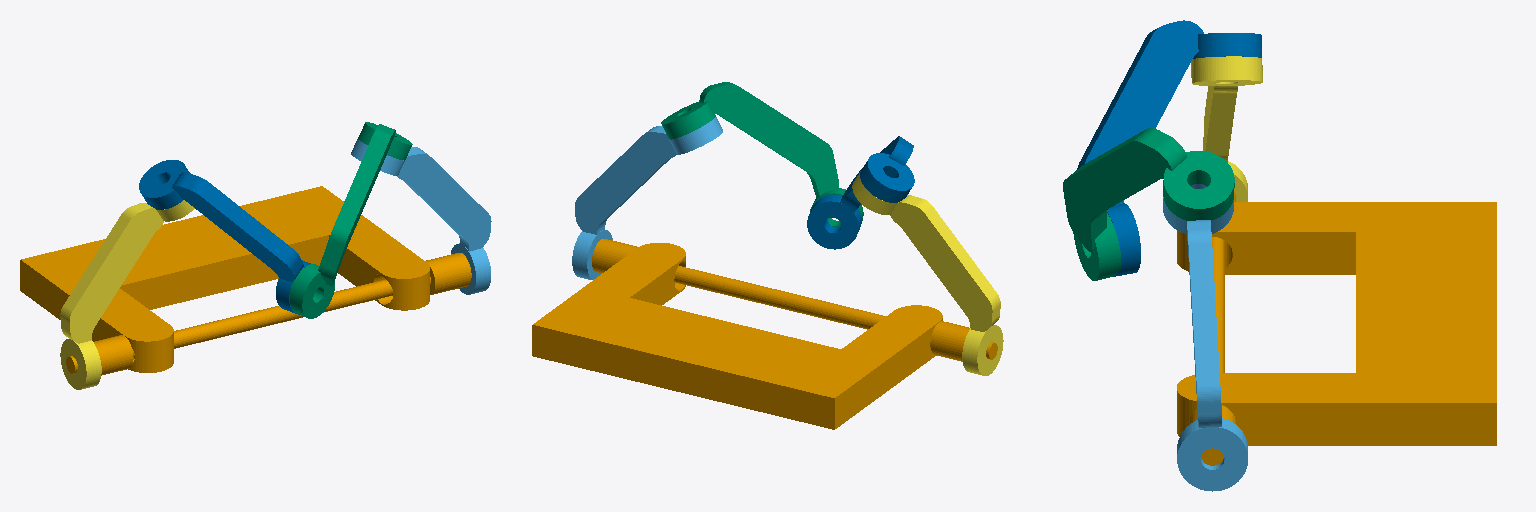
robot.urdf — Final:
<?xml version="1.0" ?>
<robot name="Final">

<mujoco>
  <compiler balanceinertia="true" discardvisual="false" meshdir="meshes" fusestatic="false"/>
</mujoco>


<link name="base_link">
  <inertial>
    <origin xyz="0.04975643133745598 0.03938833266871715 0.004996964789907014" rpy="0 0 0"/>
    <mass value="0.33668977813971906"/>
    <inertia ixx="0.00011948567792967313" iyy="0.00039235872463984855" izz="0.0005064214338297551" ixy="-2.8351395247413385e-06" iyz="-3.528545939946771e-08" ixz="2.031936255017519e-08"/>
  </inertial>
  <visual>
    <origin xyz="0 0 0" rpy="0 0 0"/>
    <geometry>
      <mesh filename="meshes/base_link.stl" scale="0.001 0.001 0.001"/>
    </geometry>
  </visual>
  <collision>
    <origin xyz="0 0 0" rpy="0 0 0"/>
    <geometry>
      <mesh filename="meshes/base_link.stl" scale="0.001 0.001 0.001"/>
    </geometry>
  </collision>
</link>

<link name="component1">
  <inertial>
    <origin xyz="-0.013093844629106358 -0.0016244826316736101 0.024131673784748987" rpy="0 0 0"/>
    <mass value="0.029352244429056873"/>
    <inertia ixx="8.060725766007138e-06" iyy="1.2586749480563634e-05" izz="5.055086592371794e-06" ixy="-3.8541462469546514e-07" iyz="5.265673264765327e-07" ixz="5.502554930385934e-06"/>
  </inertial>
  <visual>
    <origin xyz="-0.115003 -0.005119 -0.004906" rpy="0 0 0"/>
    <geometry>
      <mesh filename="meshes/component1.stl" scale="0.001 0.001 0.001"/>
    </geometry>
  </visual>
  <collision>
    <origin xyz="-0.115003 -0.005119 -0.004906" rpy="0 0 0"/>
    <geometry>
      <mesh filename="meshes/component1.stl" scale="0.001 0.001 0.001"/>
    </geometry>
  </collision>
</link>

<link name="middle1">
  <inertial>
    <origin xyz="-0.16499814818068037 0.029464214742694506 -0.06721149321533182" rpy="0 0 0"/>
    <mass value="0.03070244460218902"/>
    <inertia ixx="7.437543996775784e-06" iyy="1.0774875954084131e-05" izz="8.26129033562614e-06" ixy="-3.401502965896647e-06" iyz="-2.428186797571773e-06" ixz="-4.732602470993363e-06"/>
  </inertial>
  <visual>
    <origin xyz="-0.230829 0.041657 -0.110017" rpy="0 0 0"/>
    <geometry>
      <mesh filename="meshes/middle1.stl" scale="0.001 0.001 0.001"/>
    </geometry>
  </visual>
  <collision>
    <origin xyz="-0.230829 0.041657 -0.110017" rpy="0 0 0"/>
    <geometry>
      <mesh filename="meshes/middle1.stl" scale="0.001 0.001 0.001"/>
    </geometry>
  </collision>
</link>

<link name="left_arc1">
  <inertial>
    <origin xyz="-0.05031393390078353 0.0016250577752591833 0.024131673784879105" rpy="0 0 0"/>
    <mass value="0.029352244429056797"/>
    <inertia ixx="8.060725765820578e-06" iyy="1.258674947675755e-05" izz="5.055086599545662e-06" ixy="-3.854146246562289e-07" iyz="-5.265673253407259e-07" ixz="-5.502554929090241e-06"/>
  </inertial>
  <visual>
    <origin xyz="-0.048503 -0.005119 -0.004906" rpy="0 0 0"/>
    <geometry>
      <mesh filename="meshes/left_arc1.stl" scale="0.001 0.001 0.001"/>
    </geometry>
  </visual>
  <collision>
    <origin xyz="-0.048503 -0.005119 -0.004906" rpy="0 0 0"/>
    <geometry>
      <mesh filename="meshes/left_arc1.stl" scale="0.001 0.001 0.001"/>
    </geometry>
  </collision>
</link>

<link name="mid_arc1">
  <inertial>
    <origin xyz="0.07743420860636807 -0.01062643675723649 -0.00806520996316612" rpy="0 0 0"/>
    <mass value="0.029352244429067843"/>
    <inertia ixx="7.181404179770325e-06" iyy="8.604695140939901e-06" izz="6.935294941938403e-06" ixy="2.779880540309575e-06" iyz="-2.497663214864019e-06" ixz="3.991009787669301e-06"/>
  </inertial>
  <visual>
    <origin xyz="0.047558 -0.002858 -0.049666" rpy="0 0 0"/>
    <geometry>
      <mesh filename="meshes/mid_arc1.stl" scale="0.001 0.001 0.001"/>
    </geometry>
  </visual>
  <collision>
    <origin xyz="0.047558 -0.002858 -0.049666" rpy="0 0 0"/>
    <geometry>
      <mesh filename="meshes/mid_arc1.stl" scale="0.001 0.001 0.001"/>
    </geometry>
  </collision>
</link>

<joint name="Revolute_14" type="continuous">
  <origin xyz="0.115003 0.005119 0.004906" rpy="0 0 0"/>
  <parent link="base_link"/>
  <child link="component1"/>
  <axis xyz="1.0 0.0 -0.0"/>
</joint>
<transmission name="Revolute_14_tran">
  <type>transmission_interface/SimpleTransmission</type>
  <joint name="Revolute_14">
    <hardwareInterface>PositionJointInterface</hardwareInterface>
  </joint>
  <actuator name="Revolute_14_actr">
    <hardwareInterface>PositionJointInterface</hardwareInterface>
    <mechanicalReduction>1</mechanicalReduction>
  </actuator>
</transmission>

<joint name="Revolute_16" type="continuous">
  <origin xyz="0.115826 -0.046776 0.105111" rpy="0 0 0"/>
  <parent link="component1"/>
  <child link="middle1"/>
  <axis xyz="-0.497979 -0.018186 -0.866998"/>
</joint>
<transmission name="Revolute_16_tran">
  <type>transmission_interface/SimpleTransmission</type>
  <joint name="Revolute_16">
    <hardwareInterface>PositionJointInterface</hardwareInterface>
  </joint>
  <actuator name="Revolute_16_actr">
    <hardwareInterface>PositionJointInterface</hardwareInterface>
    <mechanicalReduction>1</mechanicalReduction>
  </actuator>
</transmission>

<joint name="Revolute_17" type="continuous">
  <origin xyz="0.048503 0.005119 0.004906" rpy="0 0 0"/>
  <parent link="base_link"/>
  <child link="left_arc1"/>
  <axis xyz="1.0 0.0 -0.0"/>
</joint>
<transmission name="Revolute_17_tran">
  <type>transmission_interface/SimpleTransmission</type>
  <joint name="Revolute_17">
    <hardwareInterface>PositionJointInterface</hardwareInterface>
  </joint>
  <actuator name="Revolute_17_actr">
    <hardwareInterface>PositionJointInterface</hardwareInterface>
    <mechanicalReduction>1</mechanicalReduction>
  </actuator>
</transmission>

<joint name="Revolute_19" type="continuous">
  <origin xyz="-0.096061 -0.002261 0.04476" rpy="0 0 0"/>
  <parent link="left_arc1"/>
  <child link="mid_arc1"/>
  <axis xyz="0.497979 0.018186 -0.866998"/>
</joint>
<transmission name="Revolute_19_tran">
  <type>transmission_interface/SimpleTransmission</type>
  <joint name="Revolute_19">
    <hardwareInterface>PositionJointInterface</hardwareInterface>
  </joint>
  <actuator name="Revolute_19_actr">
    <hardwareInterface>PositionJointInterface</hardwareInterface>
    <mechanicalReduction>1</mechanicalReduction>
  </actuator>
</transmission>

</robot>

--- What the picture shows (computed from the rendered views, not written in the file) ---
The picture shows the robot from 3 angles, left to right: view 1: azimuth 30°, elevation 25°; view 2: azimuth 150°, elevation 25°; view 3: azimuth 270°, elevation 25°; orthographic projection.
Robot: Final — 5 links, 4 joints (4 continuous); root link base_link; default pose: all joints at 0.
Visible links, largest first — view 1: base_link, left_arc1, mid_arc1, middle1, component1; view 2: base_link, left_arc1, middle1, component1, mid_arc1; view 3: base_link, middle1, mid_arc1, component1, left_arc1.
Link boxes in pixels (x1,y1,x2,y2): base_link: (20, 186, 471, 375); left_arc1: (60, 200, 194, 389); mid_arc1: (139, 160, 310, 314); middle1: (290, 122, 412, 318); component1: (351, 139, 491, 294); base_link: (532, 239, 997, 429); left_arc1: (852, 171, 1003, 375); middle1: (661, 82, 863, 226); component1: (572, 117, 722, 279); mid_arc1: (807, 136, 914, 249); base_link: (1177, 192, 1496, 465); middle1: (1063, 128, 1234, 280); mid_arc1: (1077, 20, 1261, 276); component1: (1163, 184, 1247, 491); left_arc1: (1191, 56, 1262, 201).
Size in the robot's own frame: 0.1392 by 0.0914 by 0.0652 metres.
Meshes: 5 distinct files referenced, 5 mesh visuals loaded (5 binary STL).